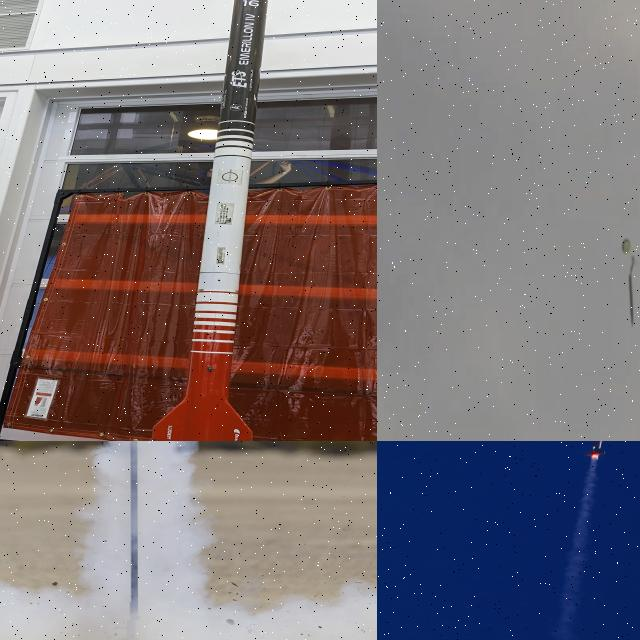Rocket: (152, 0, 268, 441), (584, 441, 607, 460)
